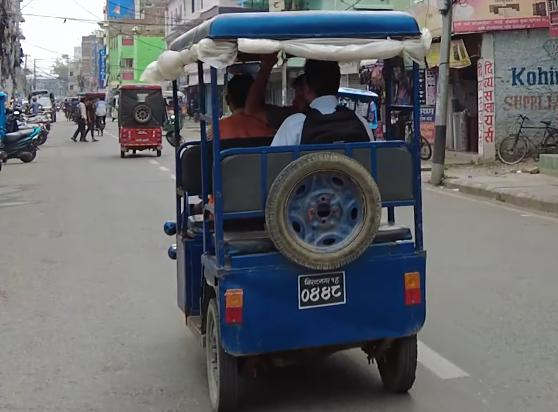e-rickshaw: (164, 9, 436, 412), (116, 78, 165, 162)
